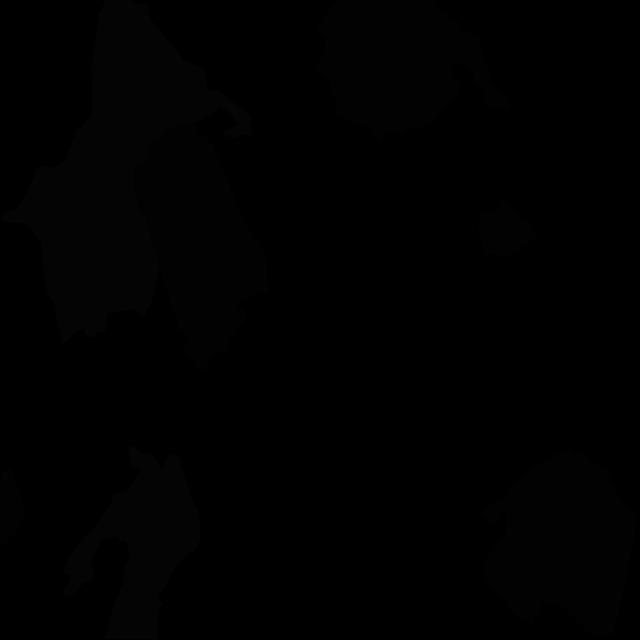cardboard: (132, 122, 268, 372), (482, 448, 637, 639), (326, 0, 511, 143), (478, 199, 538, 257), (316, 0, 353, 76), (0, 466, 26, 547)
soft_plastic: (2, 0, 252, 345), (62, 445, 200, 640)
